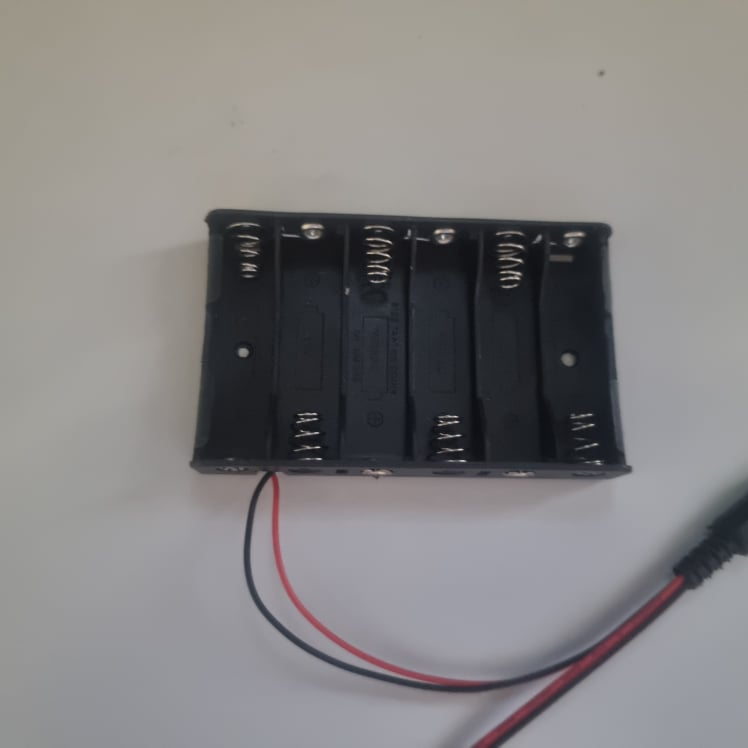BATTERY BOX: (187, 207, 633, 484)
